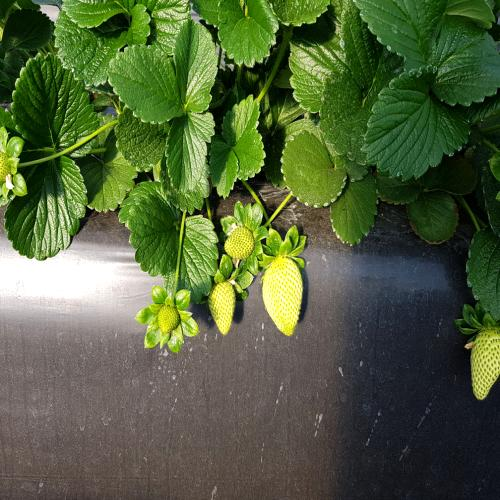unripe: (258, 254, 310, 344), (467, 324, 500, 405), (206, 274, 241, 342), (221, 225, 256, 268)
